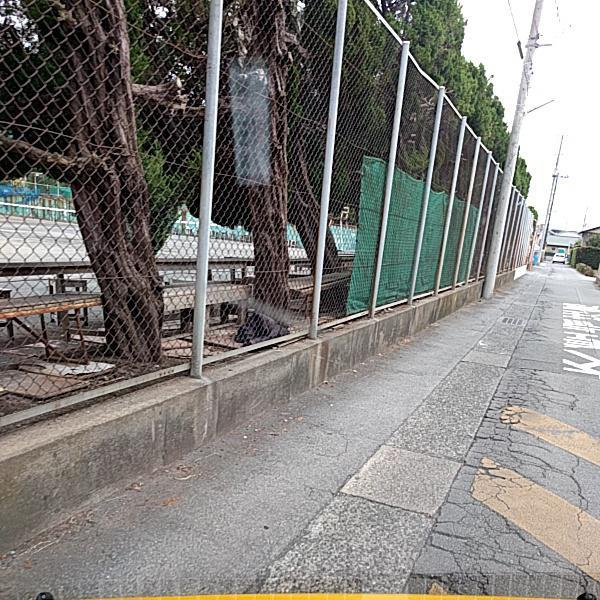D20: (399, 355, 599, 588)
